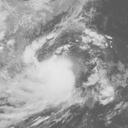cyclone: (29, 57, 75, 105)
